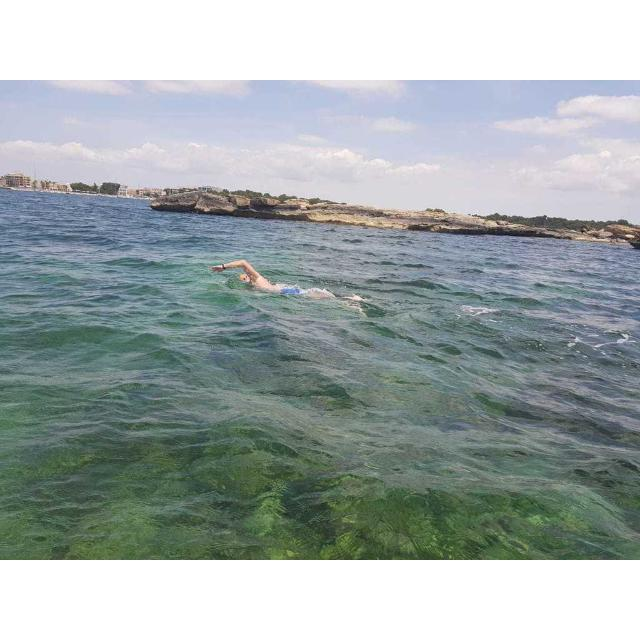human: (211, 256, 359, 307)
